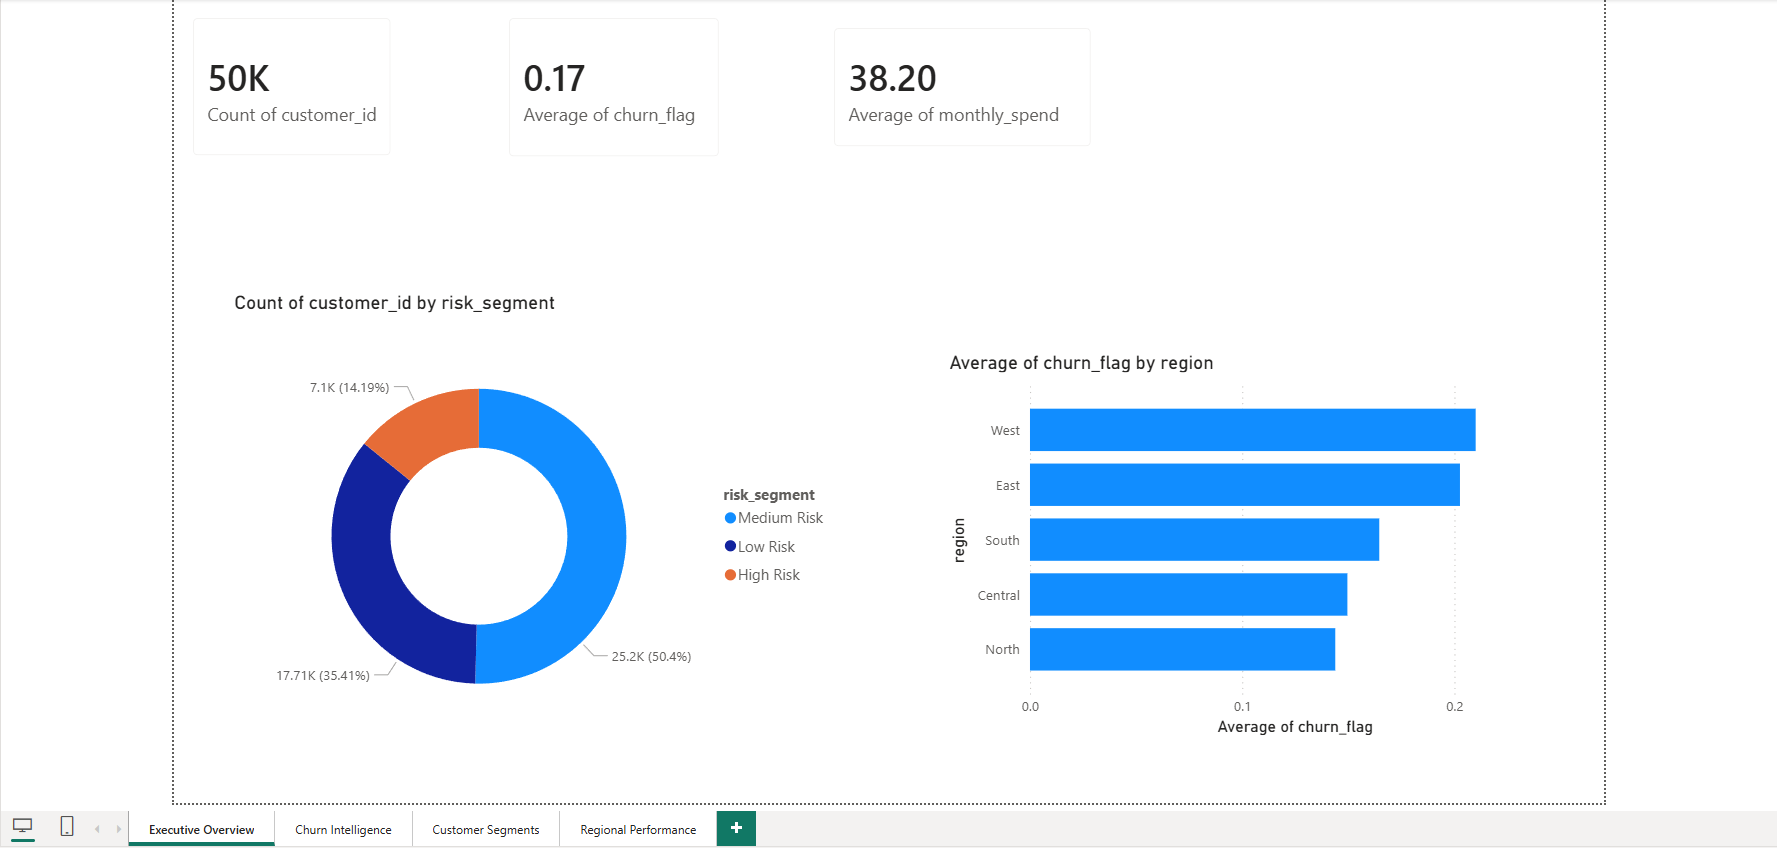

The page's visual inventory and layout, read from the dashboard file:
{"tool":"powerbi","page":{"name":"Executive Overview","canvas":[1280,720],"ordinal":0},"visuals":[{"type":"cardVisual","fields":{"Data":["CountNonNull(telecom_segmented.customer_id)"]},"box":[0,0,211.1,157.6],"z":0},{"type":"cardVisual","fields":{"Data":["Avg(telecom_segmented.churn_flag)"]},"box":[283,0,222.7,158.5],"z":1000},{"type":"cardVisual","fields":{"Data":["Avg(telecom_segmented.monthly_spend)"]},"box":[573.9,8.8,264.6,140.1],"z":2000},{"type":"donutChart","fields":{"Category":["telecom_segmented.risk_segment"],"Y":["CountNonNull(telecom_segmented.customer_id)"]},"box":[49.6,261.6,546.6,420.2],"z":3000},{"type":"clusteredBarChart","fields":{"Category":["telecom_segmented.region"],"Y":["Avg(telecom_segmented.churn_flag)"]},"box":[689.6,315.1,565.1,349.2],"z":4000}]}

Visuals, with their boxes on the page's 1280x720 design canvas (x1, y1, x2, y2). These are canvas units, not pixel positions in the 1777x848 screenshot, which may show the page scaled, cropped or inside an application window:
cardVisual - CountNonNull(telecom_segmented.customer_id): <bbox>0, 0, 211, 158</bbox>
cardVisual - Avg(telecom_segmented.churn_flag): <bbox>283, 0, 506, 158</bbox>
cardVisual - Avg(telecom_segmented.monthly_spend): <bbox>574, 9, 838, 149</bbox>
donutChart - telecom_segmented.risk_segment x CountNonNull(telecom_segmented.customer_id): <bbox>50, 262, 596, 682</bbox>
clusteredBarChart - telecom_segmented.region x Avg(telecom_segmented.churn_flag): <bbox>690, 315, 1255, 664</bbox>
